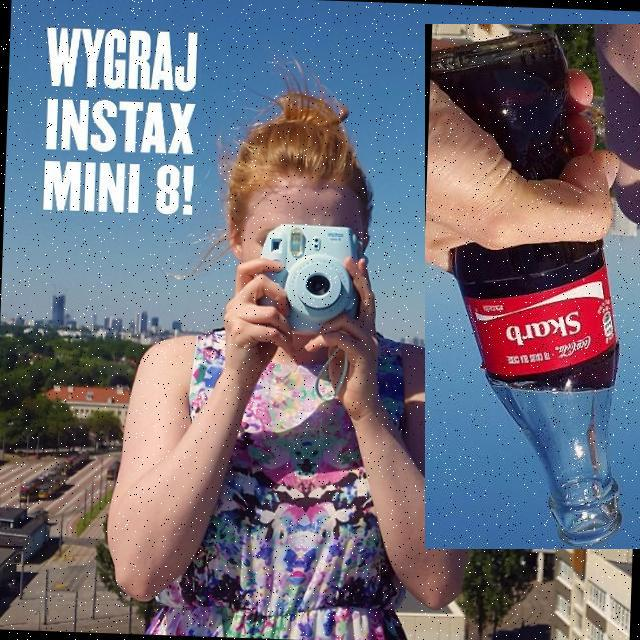coca-cola: (425, 24, 640, 549)
